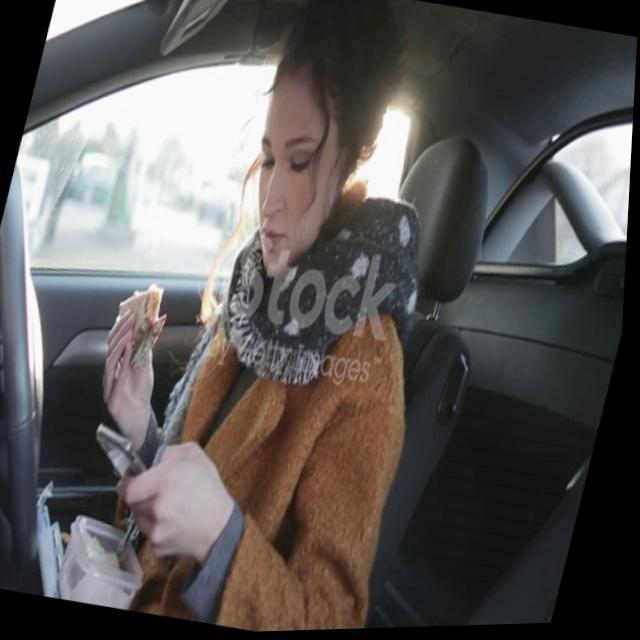PhoneCall: (89, 418, 168, 498)
